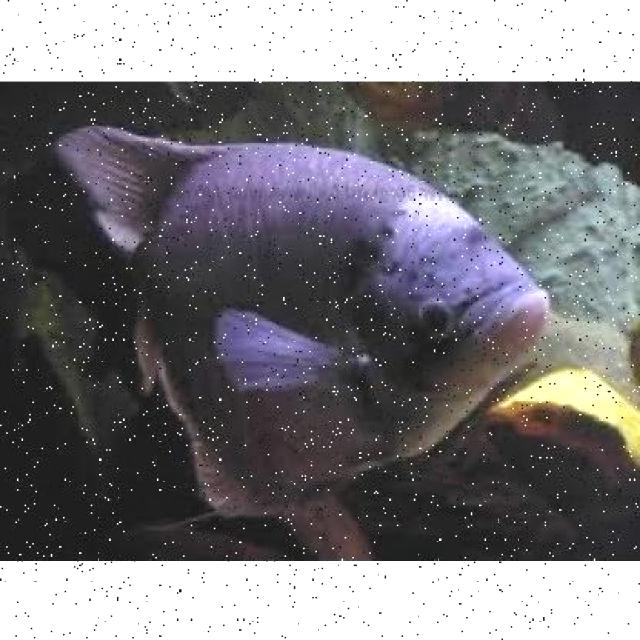gurame: (71, 137, 554, 512)
